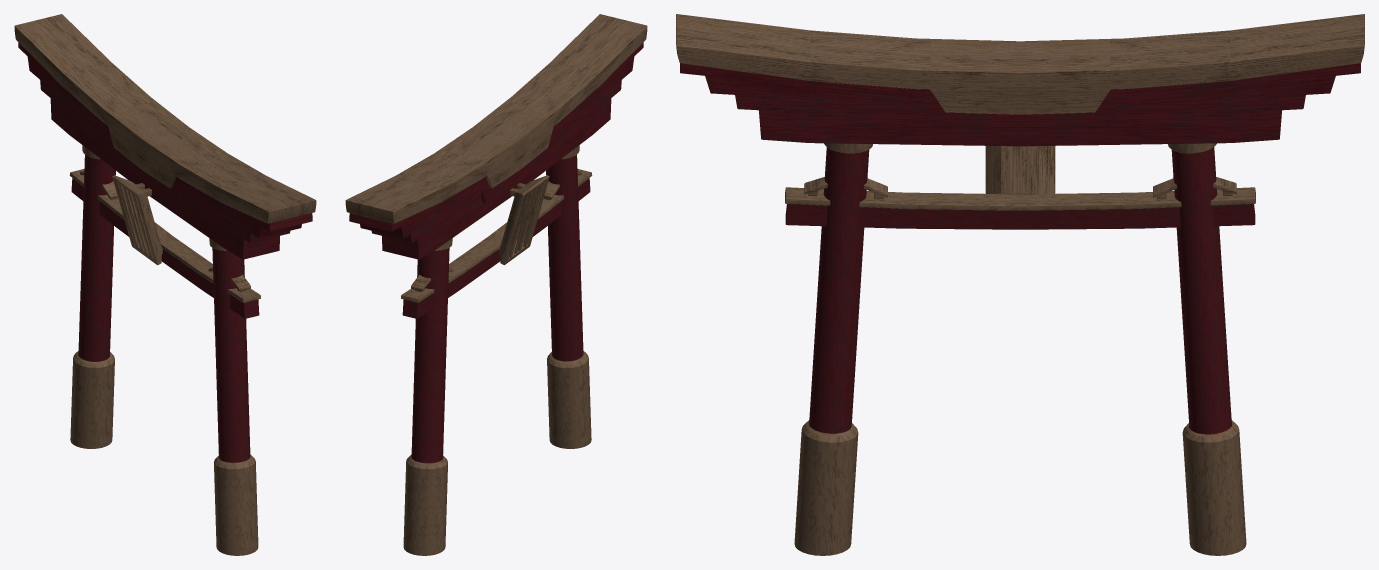
Rendered from SM_Torii_02.fbx.
3 renders of one model, left to right at view 1: azimuth 30°, elevation 25°; view 2: azimuth 150°, elevation 25°; view 3: azimuth 270°, elevation 25°, orthographic. The views are drawn at different scales.
Visible parts, largest first — view 1: SM_Torii_02; view 2: SM_Torii_02; view 3: SM_Torii_02.
Boxes of the visible parts, x1,y1,x2,y2 form: SM_Torii_02: (14, 14, 316, 555); SM_Torii_02: (345, 14, 647, 555); SM_Torii_02: (676, 14, 1364, 555).
Size of the model in its own units: 136 by 927 by 765.
Materials: 2 (2 with a texture image).
